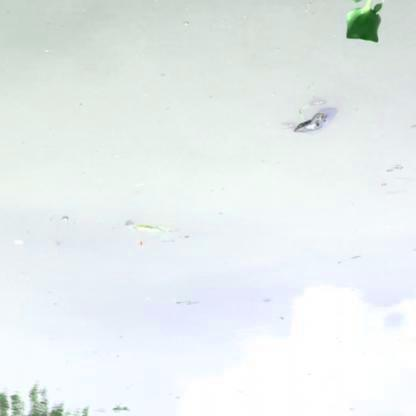Plastic: (292, 106, 332, 137)
